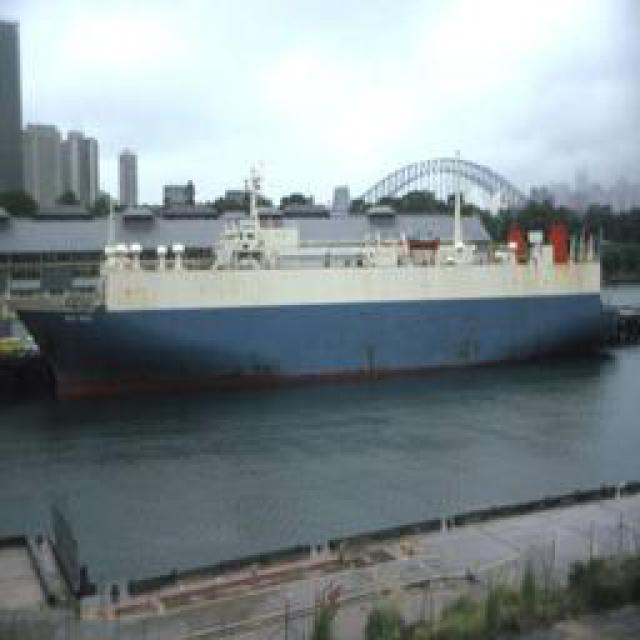Ship: (10, 200, 635, 398)
